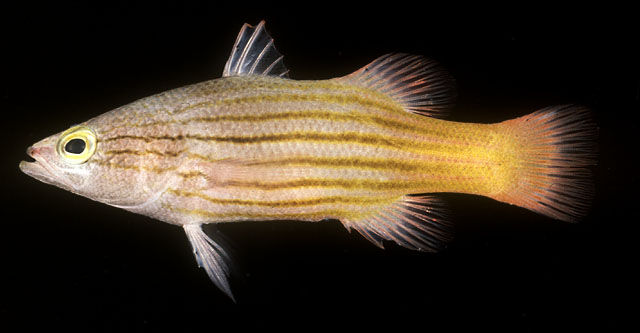fish: (19, 21, 593, 300)
